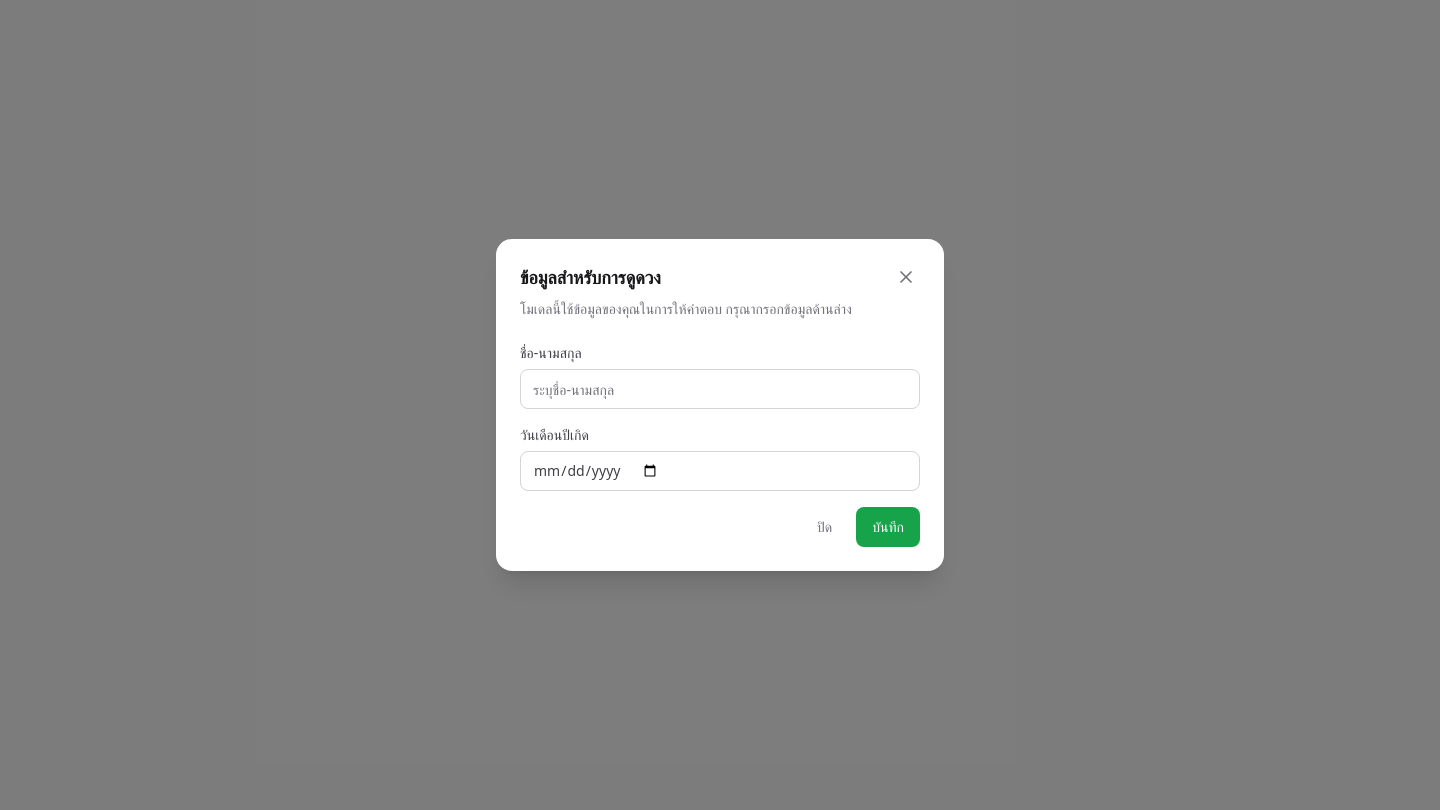
Test: CelestialInfoModal › shows error when submitting empty fields
Step 1. Click the button "บันทึก" → x=888, y=527, box 856,507 -> 920,547
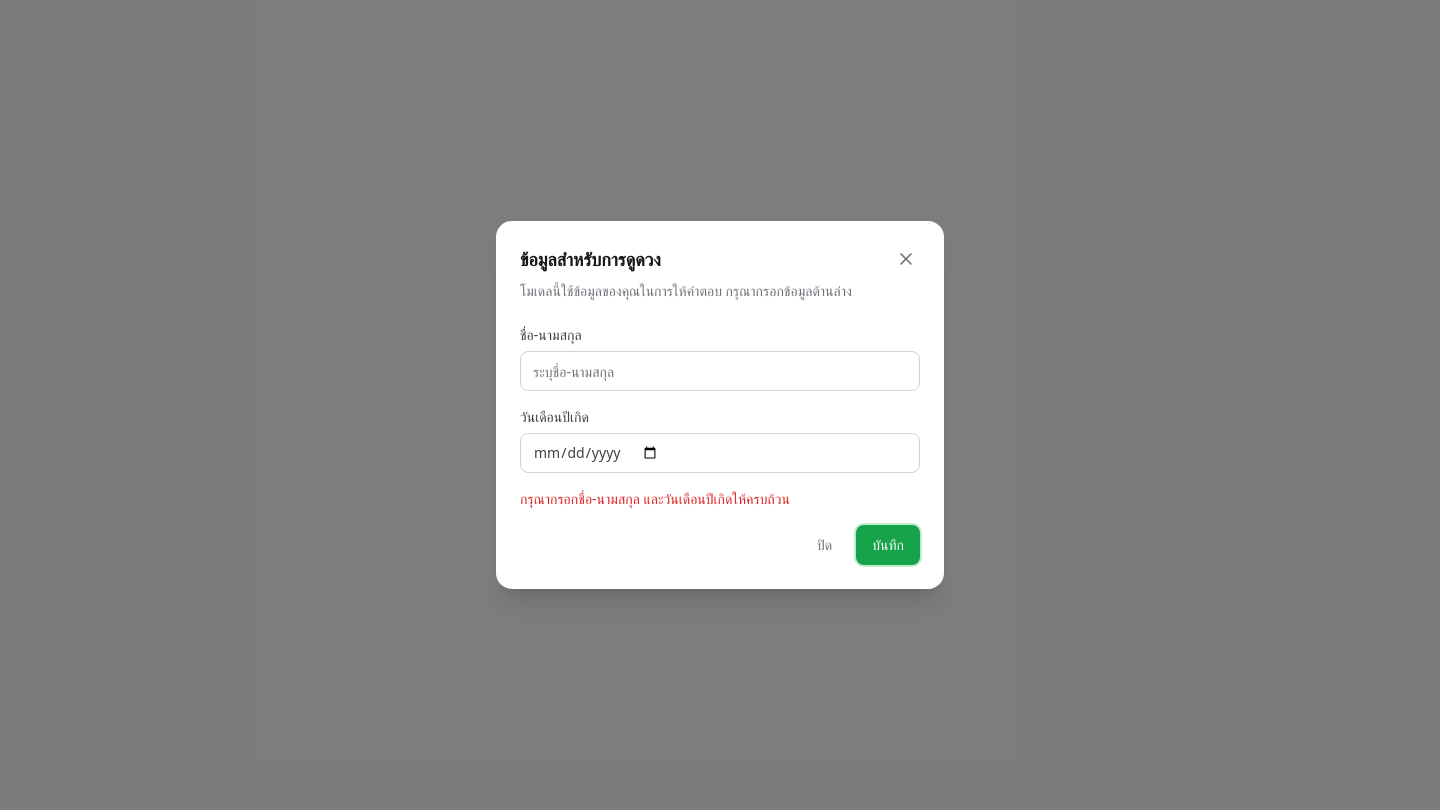
Now the message shows "กรุณากรอก", box 520,489 -> 790,508
